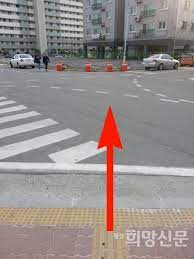guide_blocks: (1, 207, 102, 224), (117, 209, 194, 229), (93, 232, 130, 259)
